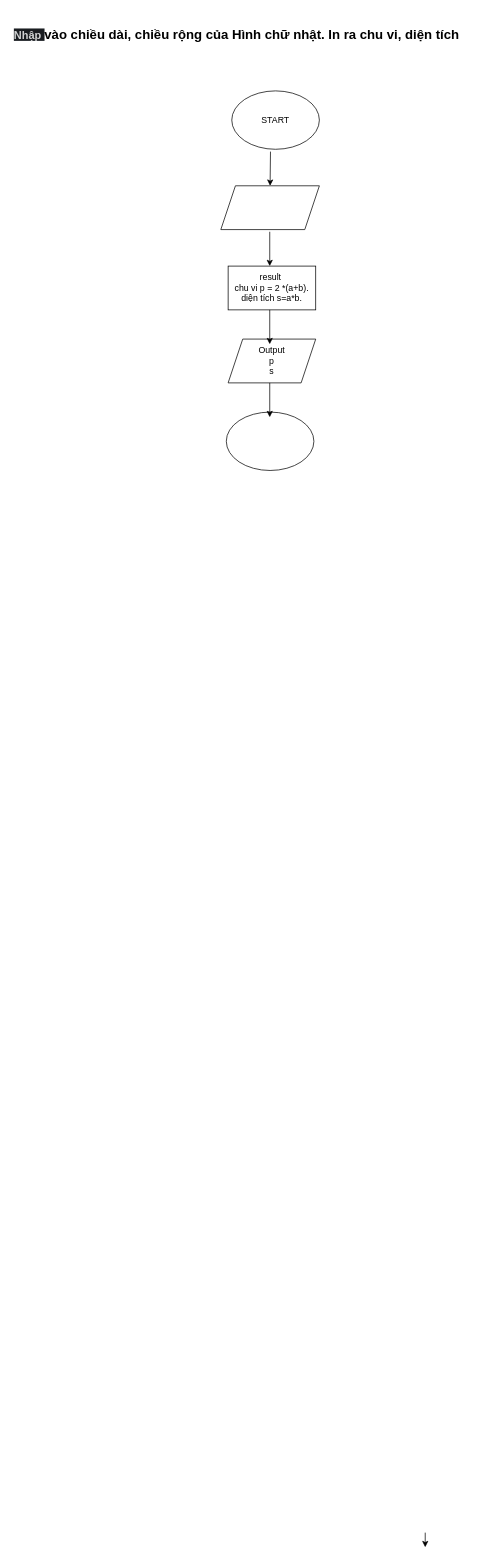
Image size: 485x1566. Some labels were removed from this diagram. The centre of each missing label's shape, as x and y in pixels:
"END" goes at pixel 270 440.
"Input a: chiều dài b: chiều rộng." goes at pixel 269 207.
